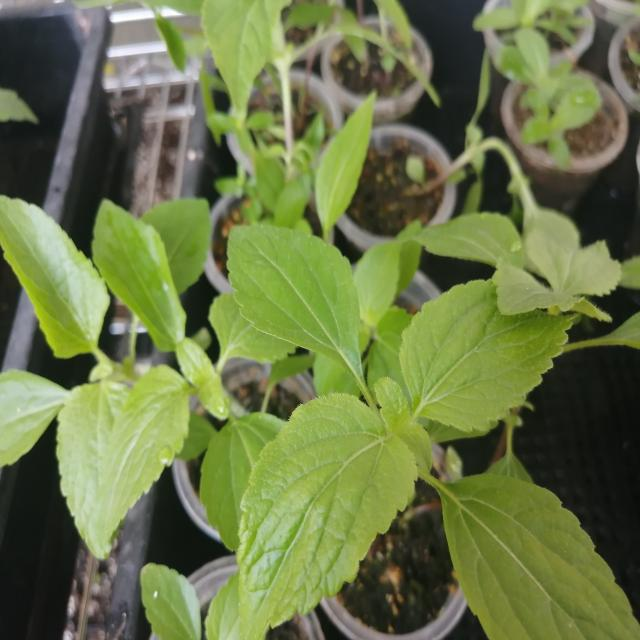billygoat_weed: (204, 184, 598, 630)
